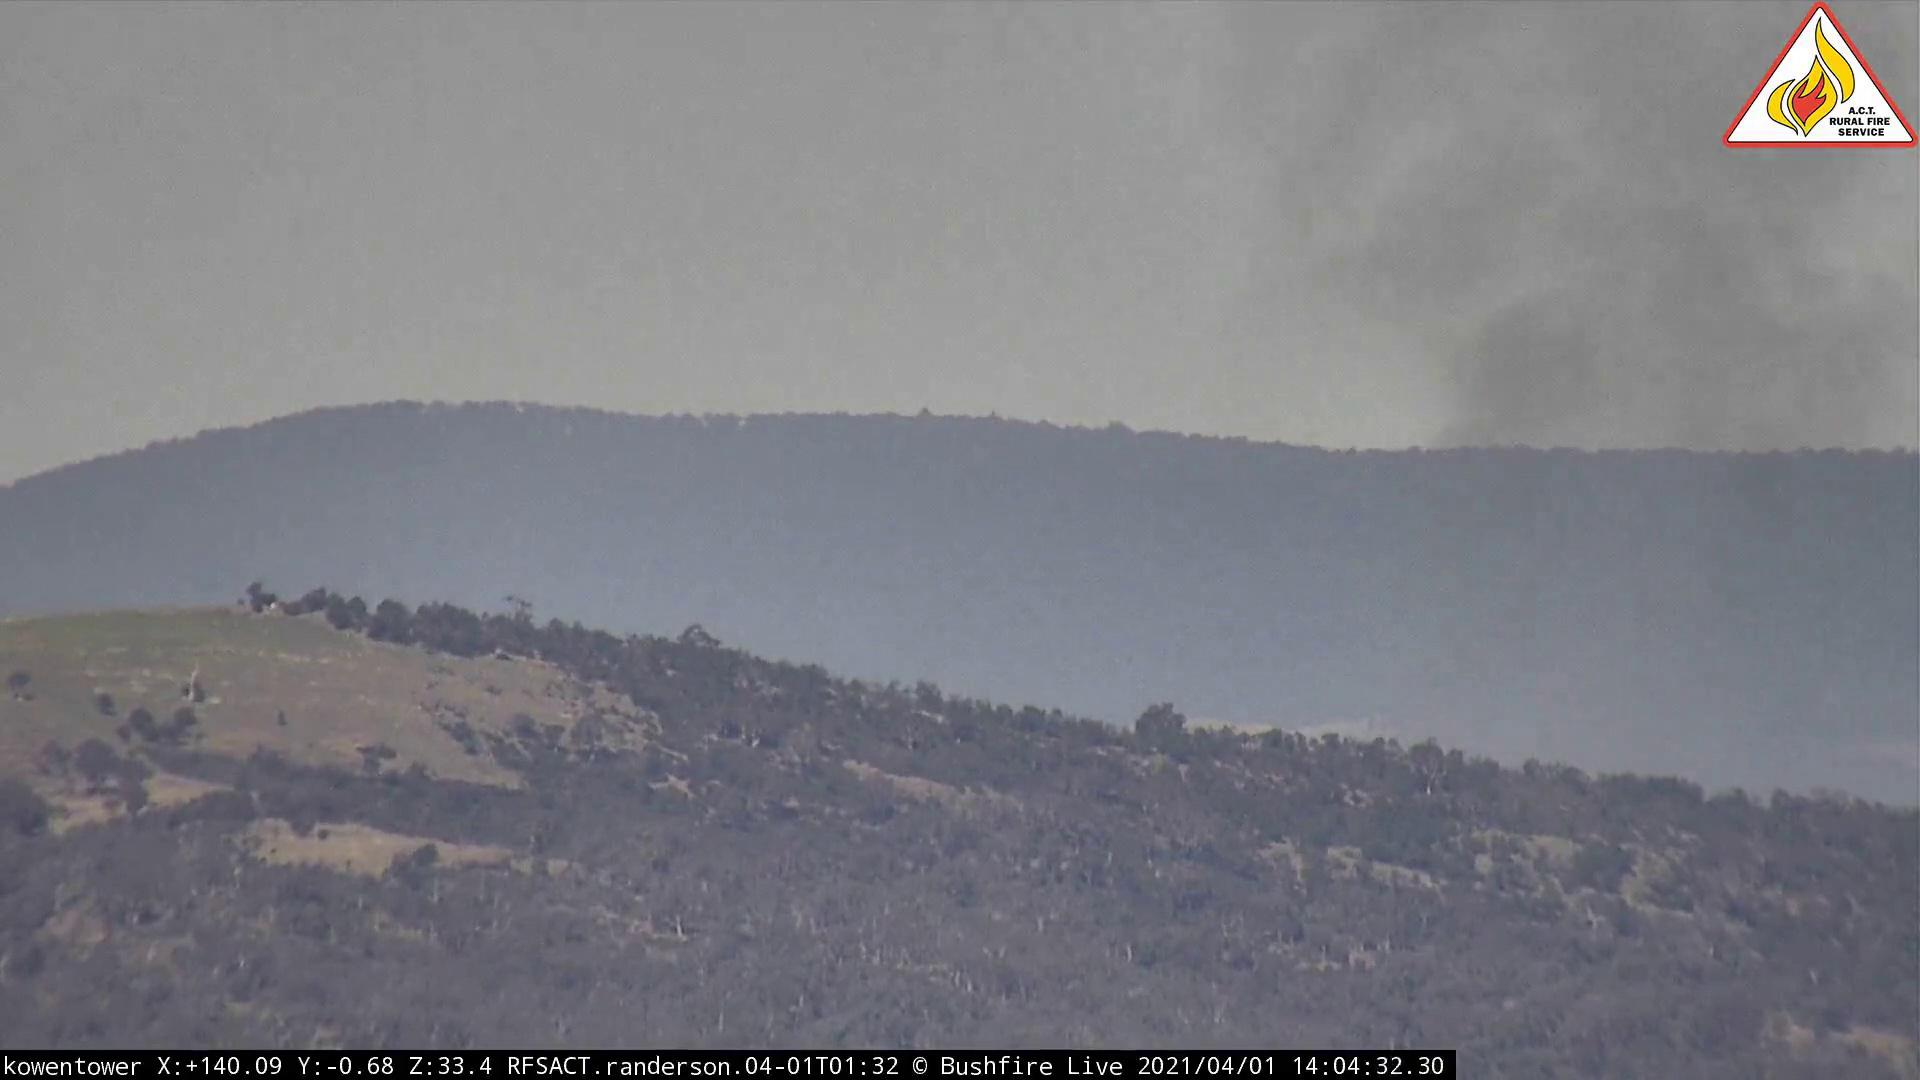Smoke: (1309, 178, 1920, 843)
